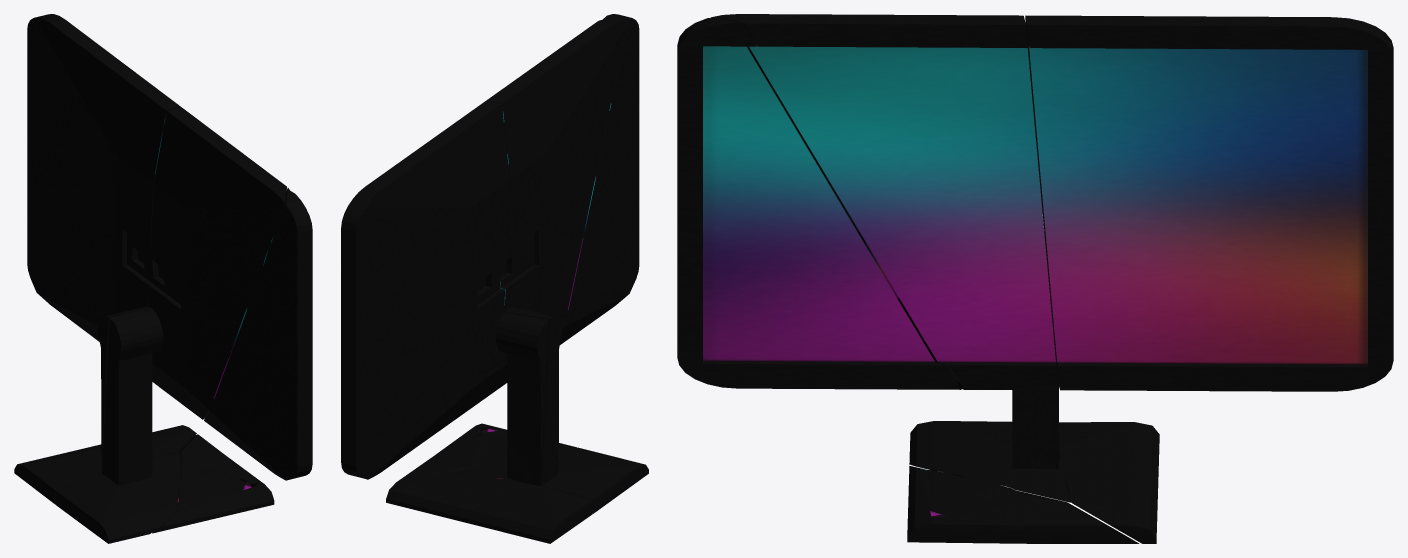
File: fractured_monitor.fbx
The picture shows the model from 3 angles, left to right: view 1: azimuth 30°, elevation 25°; view 2: azimuth 150°, elevation 25°; view 3: azimuth 270°, elevation 25°; orthographic projection. The views are drawn at different scales.
Parts seen in each view (by area): view 1: Monitor_cell.003, Monitor_cell, Monitor_cell.004, Monitor_cell.002, Monitor_cell.001; view 2: Monitor_cell, Monitor_cell.003, Monitor_cell.004, Monitor_cell.002, Monitor_cell.001; view 3: Monitor_cell, Monitor_cell.003, Monitor_cell.004, Monitor_cell.002, Monitor_cell.001.
Part boxes in pixels (x1=…): Monitor_cell.003: x1=55, y1=106, x2=286, y2=543; Monitor_cell: x1=14, y1=14, x2=196, y2=503; Monitor_cell.004: x1=204, y1=188, x2=312, y2=480; Monitor_cell.002: x1=152, y1=434, x2=274, y2=533; Monitor_cell.001: x1=178, y1=469, x2=234, y2=507; Monitor_cell: x1=341, y1=101, x2=592, y2=543; Monitor_cell.003: x1=454, y1=18, x2=648, y2=513; Monitor_cell.004: x1=560, y1=14, x2=639, y2=344; Monitor_cell.002: x1=405, y1=423, x2=576, y2=479; Monitor_cell.001: x1=488, y1=436, x2=565, y2=460; Monitor_cell: x1=1025, y1=15, x2=1393, y2=543; Monitor_cell.003: x1=710, y1=14, x2=1070, y2=502; Monitor_cell.004: x1=677, y1=18, x2=961, y2=389; Monitor_cell.002: x1=907, y1=466, x2=1139, y2=543; Monitor_cell.001: x1=927, y1=470, x2=1020, y2=509.
Size of the model in its own units: 21.92 by 47.3 by 62.92.
